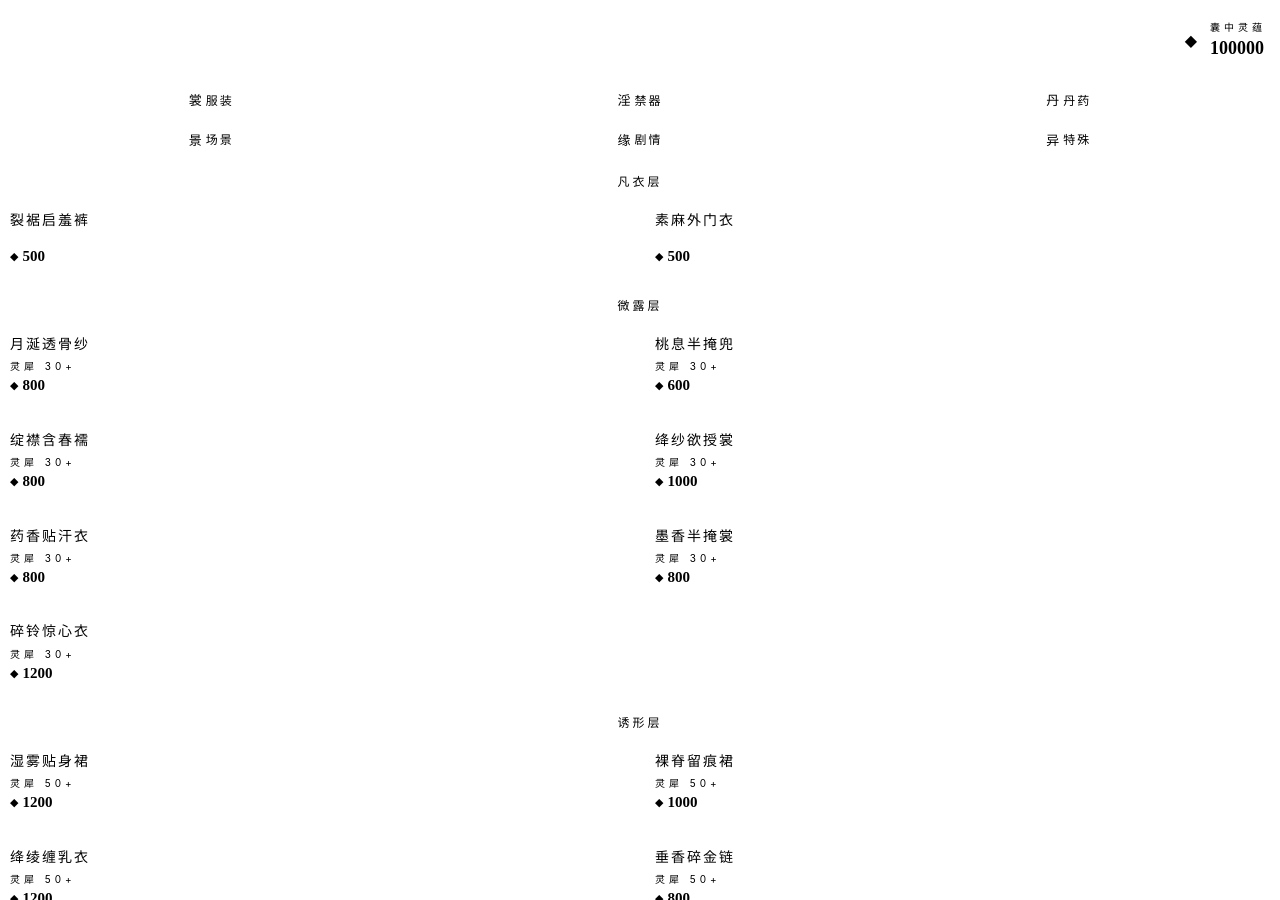
Scenario: ShopPage › 点击物品卡片显示详情弹窗
This screenshot has width=1280, height=900.
Click the element with class "item-card" showing "裂裾启羞裤 ◆ 500" at {"x": 50, "y": 220}, box [10,213,90,264]
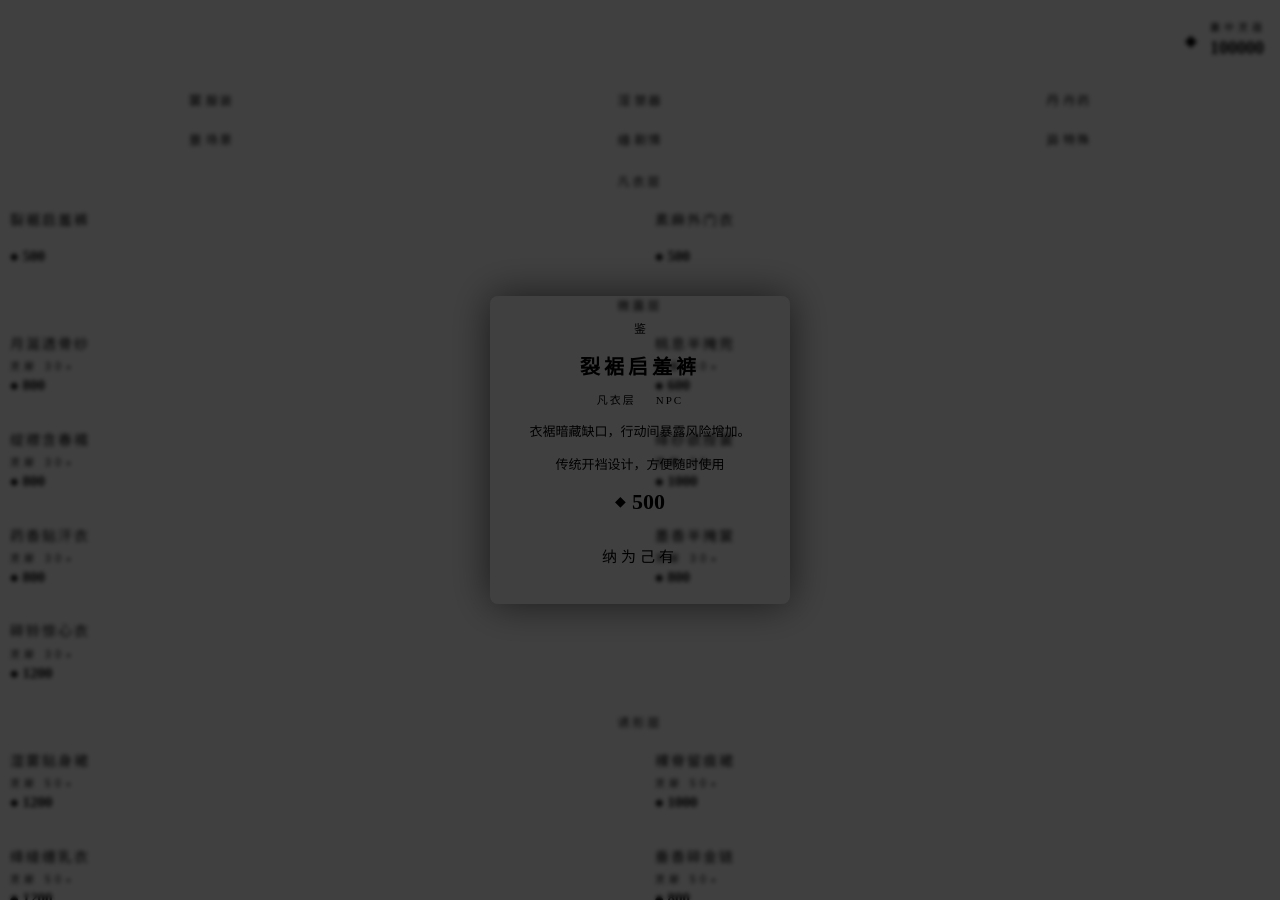
Now the element with class "detail-overlay" is shown
